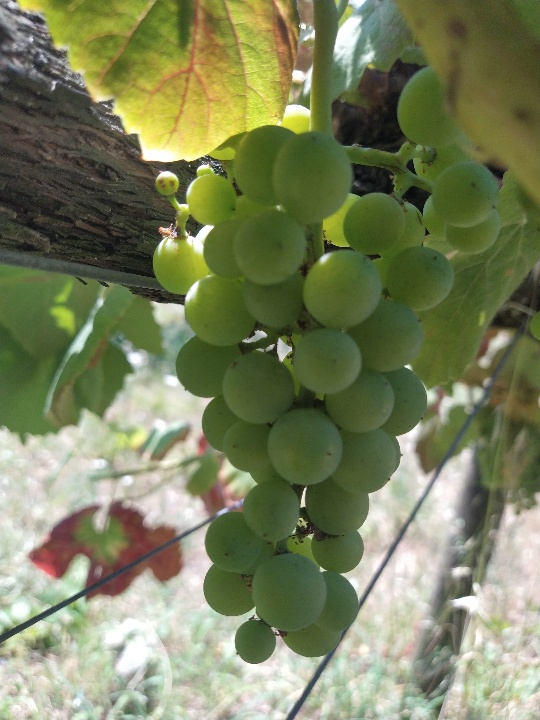grape: (150, 64, 502, 665)
